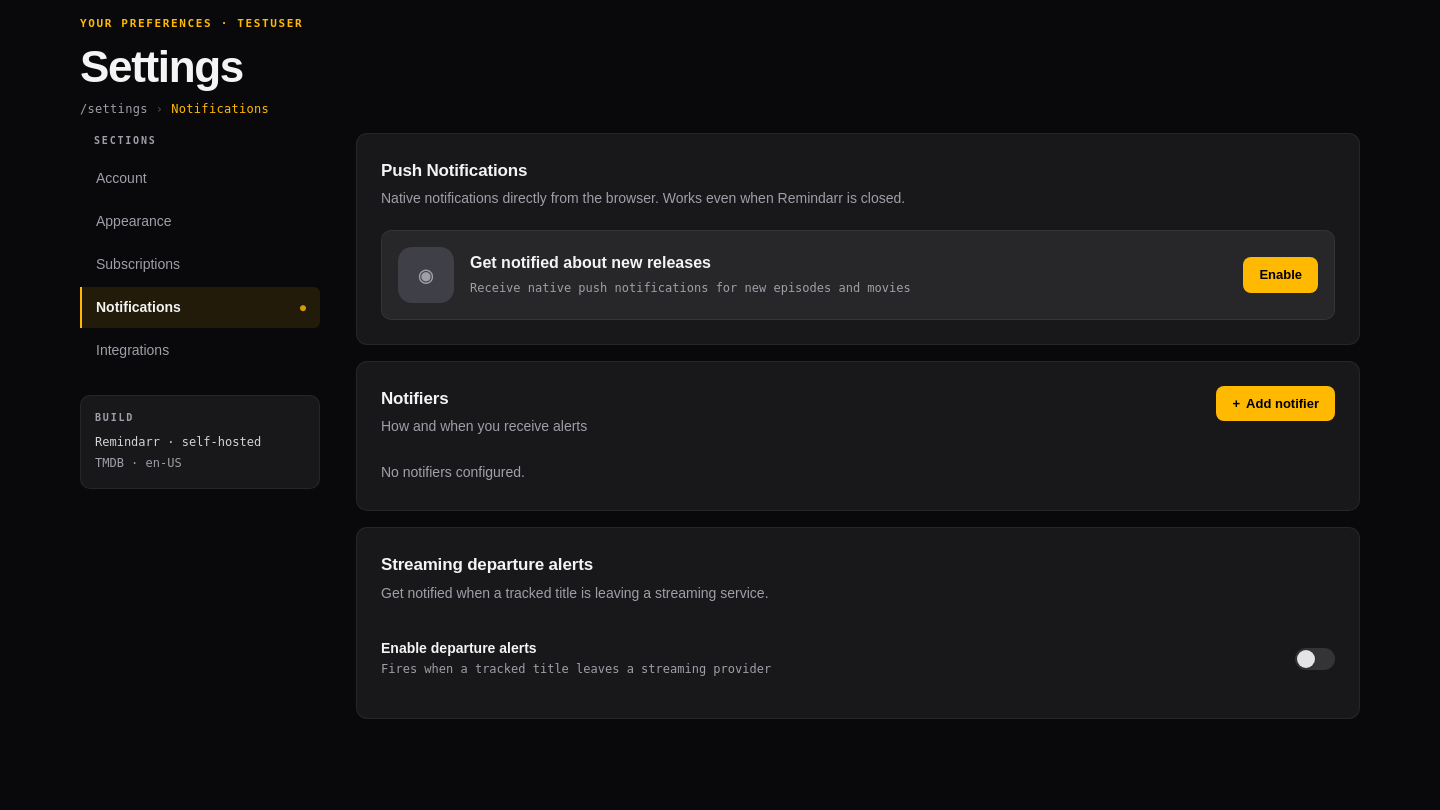
PushNotificationsSection › cleans up when fresh subscription fails verification after enable
The image size is (1440, 810).
Click the button "Enable": [1281, 275] box [1243,257,1318,292]
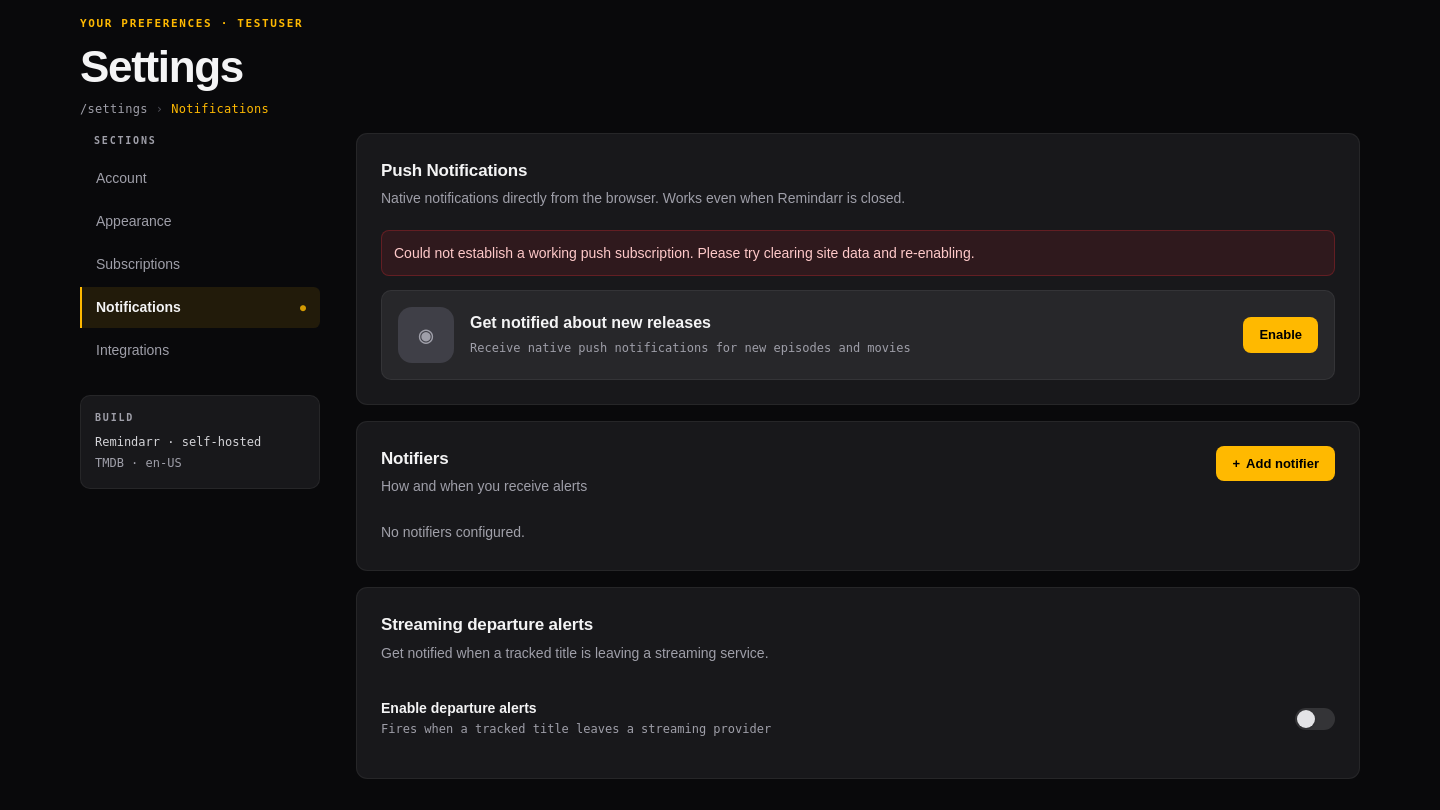
Now the text "Could not establish" is shown, box [394,245,975,261]
